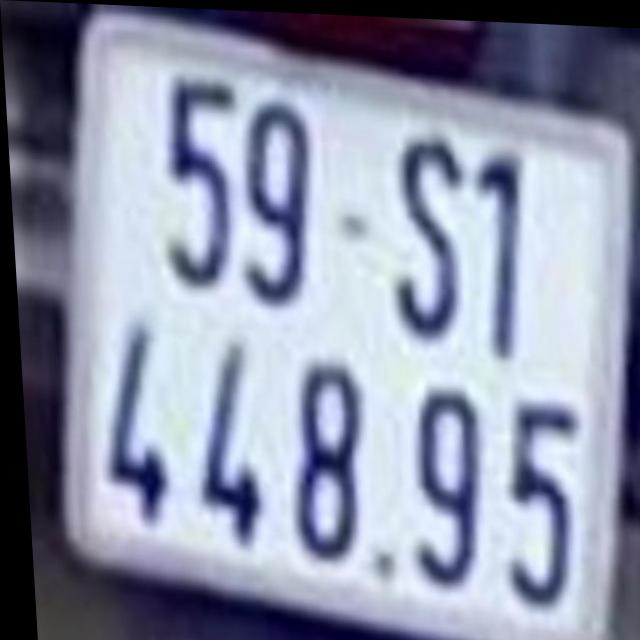1: (471, 142, 530, 350)
4: (90, 313, 168, 522), (186, 338, 258, 542)
5: (159, 61, 240, 290), (497, 394, 581, 613)
8: (282, 355, 358, 561)
9: (236, 93, 315, 315), (408, 380, 479, 586)
S: (383, 128, 471, 336)
